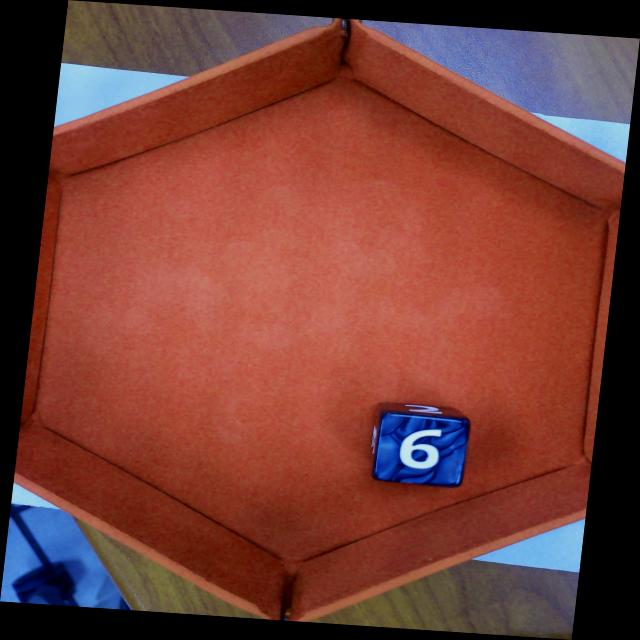dice: (371, 413, 475, 489)
